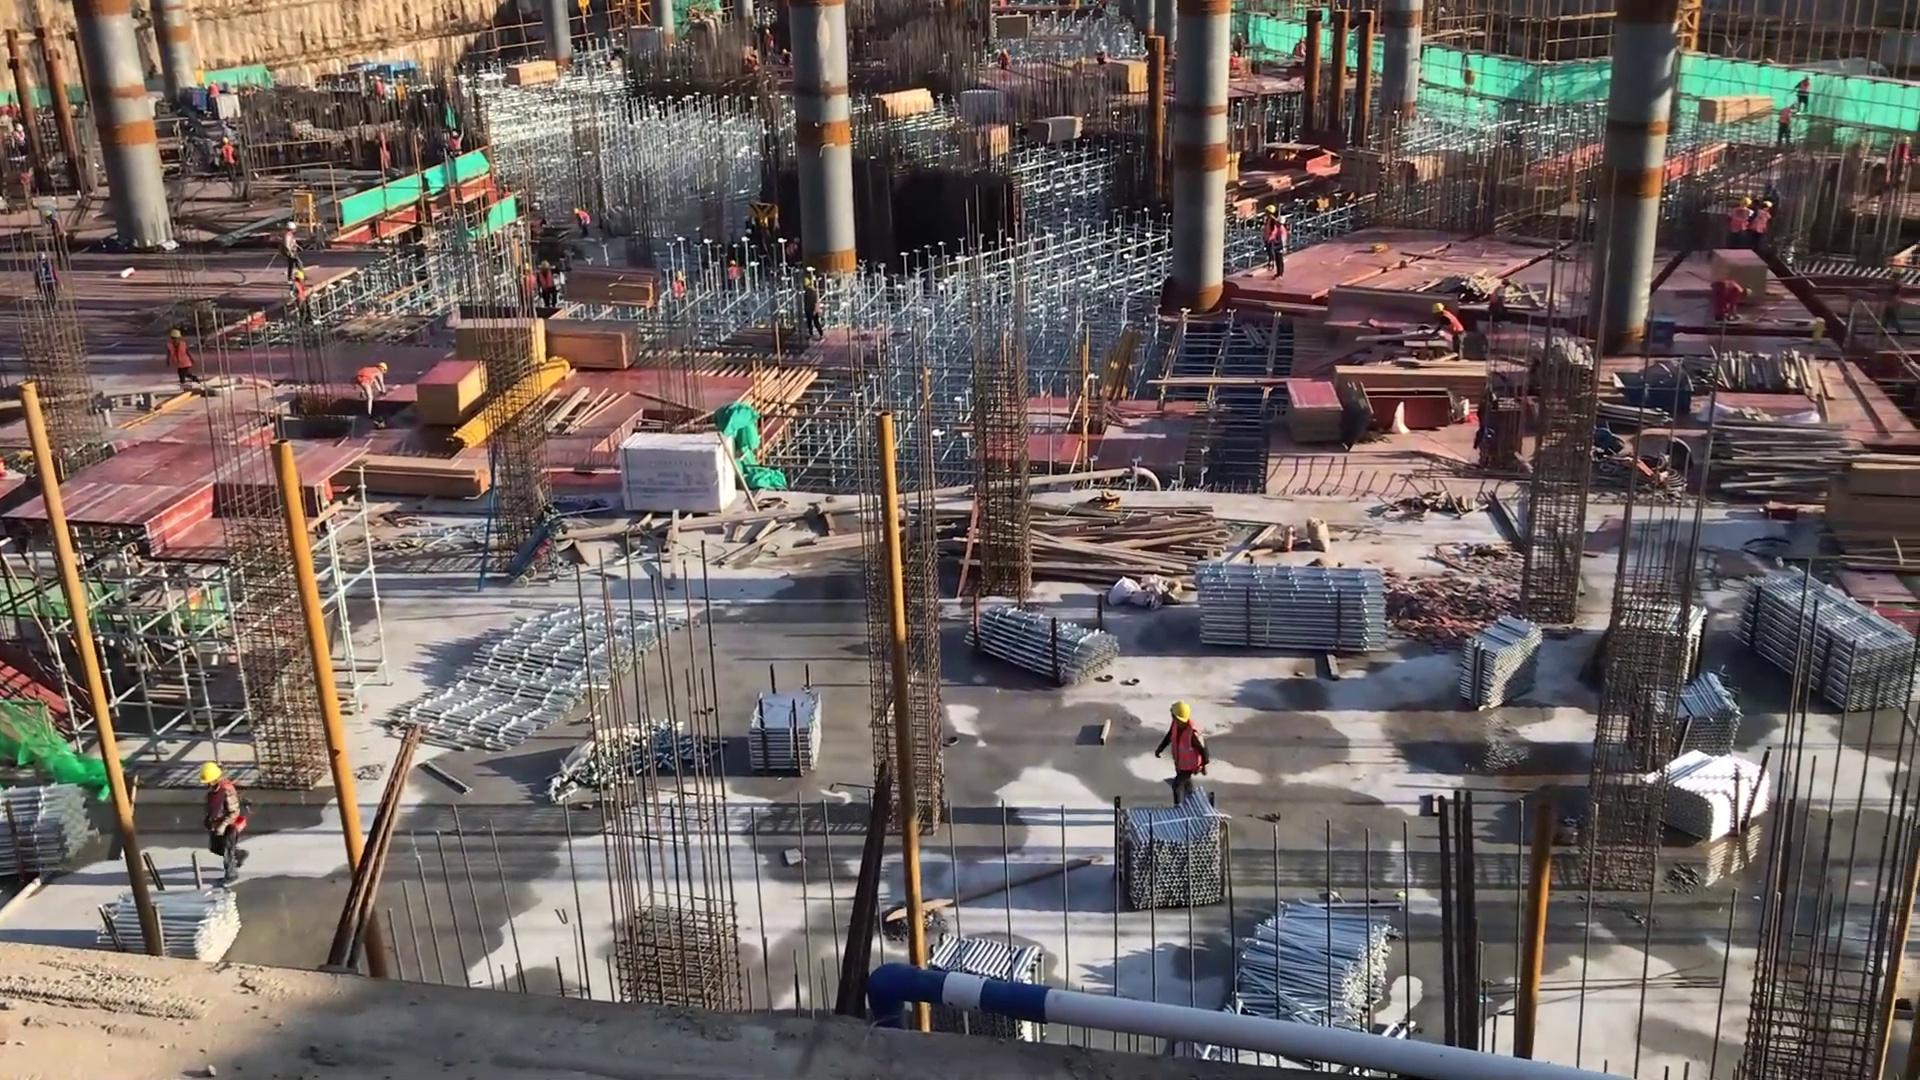board: (449, 319, 544, 382), (414, 358, 493, 434), (1288, 377, 1347, 453), (1108, 51, 1150, 96)
ebox: (288, 187, 317, 232)
helmet: (198, 757, 225, 788), (1167, 699, 1196, 728), (1431, 301, 1451, 322), (168, 326, 186, 341), (1260, 204, 1281, 216), (1276, 214, 1290, 229), (283, 220, 300, 232), (1741, 282, 1753, 299), (803, 274, 813, 293), (41, 208, 55, 220), (1739, 196, 1753, 208), (540, 258, 553, 270), (37, 252, 50, 263), (1763, 200, 1773, 211), (222, 135, 231, 145), (727, 261, 738, 269), (451, 131, 460, 140), (378, 362, 388, 372)
hook: (1615, 363, 1701, 414), (572, 1, 597, 30)
person: (197, 756, 254, 893), (1152, 701, 1216, 805), (161, 326, 201, 394), (1428, 299, 1471, 360), (354, 359, 391, 419), (1713, 277, 1757, 327), (801, 276, 824, 348), (41, 208, 68, 268), (34, 248, 61, 309), (1267, 216, 1294, 276), (1752, 195, 1777, 255), (1730, 196, 1756, 244), (537, 260, 561, 312), (1775, 100, 1797, 153), (220, 135, 240, 194), (1260, 199, 1278, 266), (283, 219, 302, 281), (1790, 73, 1814, 118), (443, 127, 470, 165), (724, 257, 744, 295), (784, 228, 800, 272), (669, 271, 687, 308), (208, 79, 224, 121), (1293, 33, 1313, 61), (575, 207, 592, 234), (764, 27, 775, 62), (997, 48, 1010, 71)
scaffold: (1722, 555, 1920, 717), (1233, 901, 1401, 1066), (1190, 551, 1398, 667), (947, 595, 1140, 685), (98, 884, 243, 970), (1626, 677, 1748, 770), (1456, 614, 1556, 727), (1, 784, 119, 880)
vest: (203, 775, 242, 845), (1167, 720, 1207, 778), (166, 337, 195, 371), (1731, 205, 1755, 242), (1753, 205, 1773, 241), (355, 362, 381, 392), (1440, 310, 1464, 338), (1721, 277, 1741, 307), (537, 270, 557, 296), (221, 141, 236, 169)
wood: (1030, 498, 1221, 585), (1706, 416, 1861, 501), (1826, 450, 1920, 555), (1333, 361, 1489, 405), (351, 456, 498, 497), (546, 317, 637, 373), (567, 264, 654, 309), (495, 49, 569, 102), (866, 84, 937, 126), (1695, 92, 1773, 128), (1033, 111, 1082, 146)
